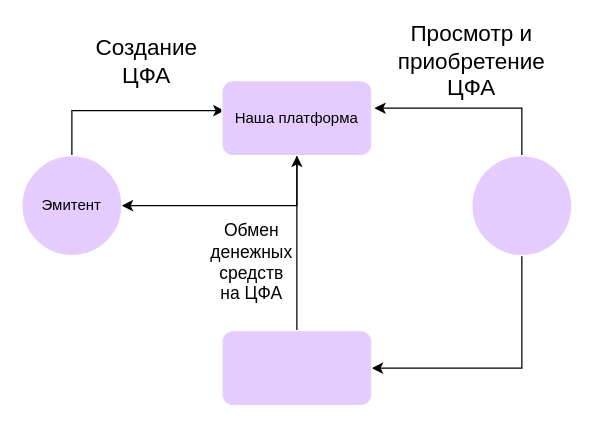
Some shapes in this 594 by 428 pixel diagram are drawn without their labels. The shapes that lost their labels are listed below. From the top down, each one's box as (x1, y1, x2, y2) in pixels, then its label:
(471, 154, 572, 256): Инвестор
(221, 329, 372, 406): Счет в банке
